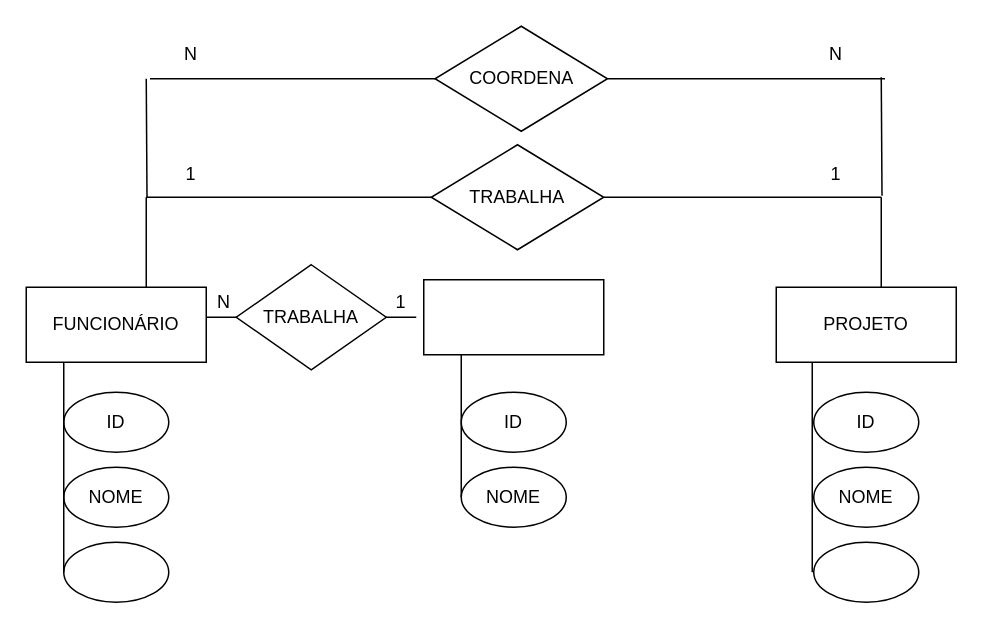
Some shapes in this 983 by 629 pixel diagram are drawn without their labels. Each missing label, with the centre of its shape:
"DEADLINE" goes at (865,571).
"DEPTO" goes at (513,316).
"SALÁRIO" goes at (115,571).
